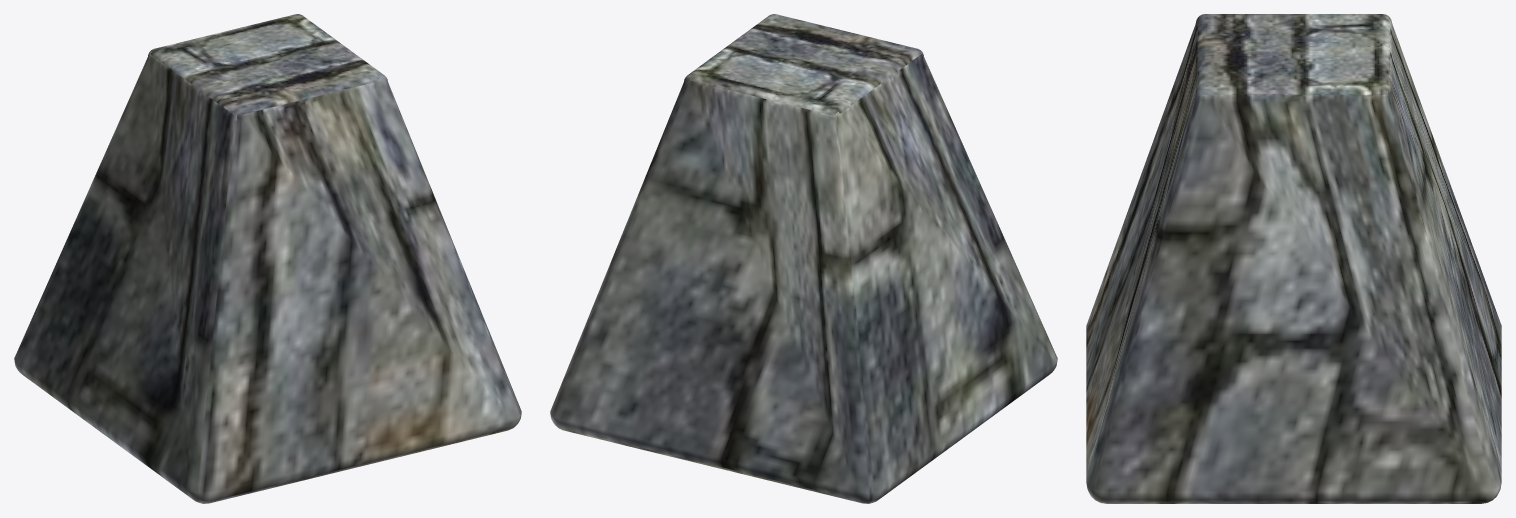
Rendered from trapezoidal_prism.obj.
3 views of the same model, side by side, from view 1: azimuth 30°, elevation 25°; view 2: azimuth 150°, elevation 25°; view 3: azimuth 270°, elevation 25° (orthographic). The views are drawn at different scales.
Parts seen in each view (by area): view 1: Cube_Finished_Cube.001; view 2: Cube_Finished_Cube.001; view 3: Cube_Finished_Cube.001.
Boxes of the visible parts, <box> form: Cube_Finished_Cube.001: <box>14,14,521,503</box>; Cube_Finished_Cube.001: <box>550,14,1057,503</box>; Cube_Finished_Cube.001: <box>1086,14,1501,503</box>.
Bounding box in the file's own units: 2 × 1.97 × 2.
1 material, 1 textured.
